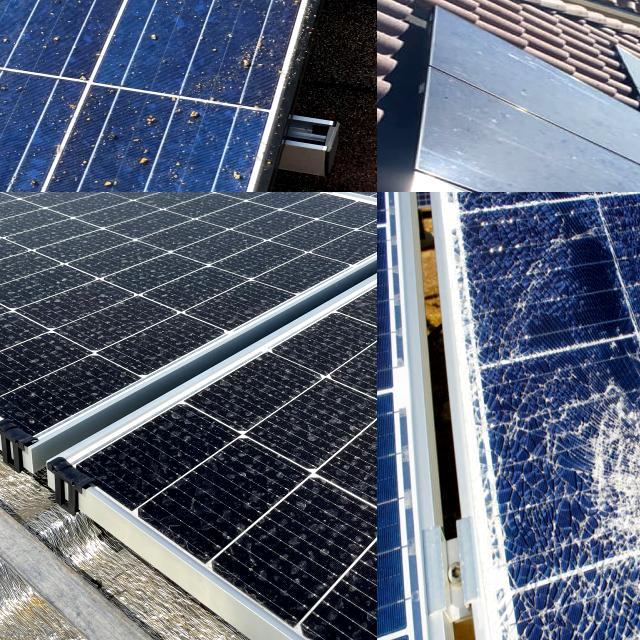bird: (40, 0, 153, 37), (288, 0, 376, 37), (0, 33, 37, 99), (0, 0, 44, 28)
dust: (102, 192, 211, 335), (0, 192, 99, 321), (239, 507, 377, 573), (283, 381, 377, 464), (0, 342, 87, 404), (360, 316, 377, 366)
hotspot: (578, 390, 640, 640)
